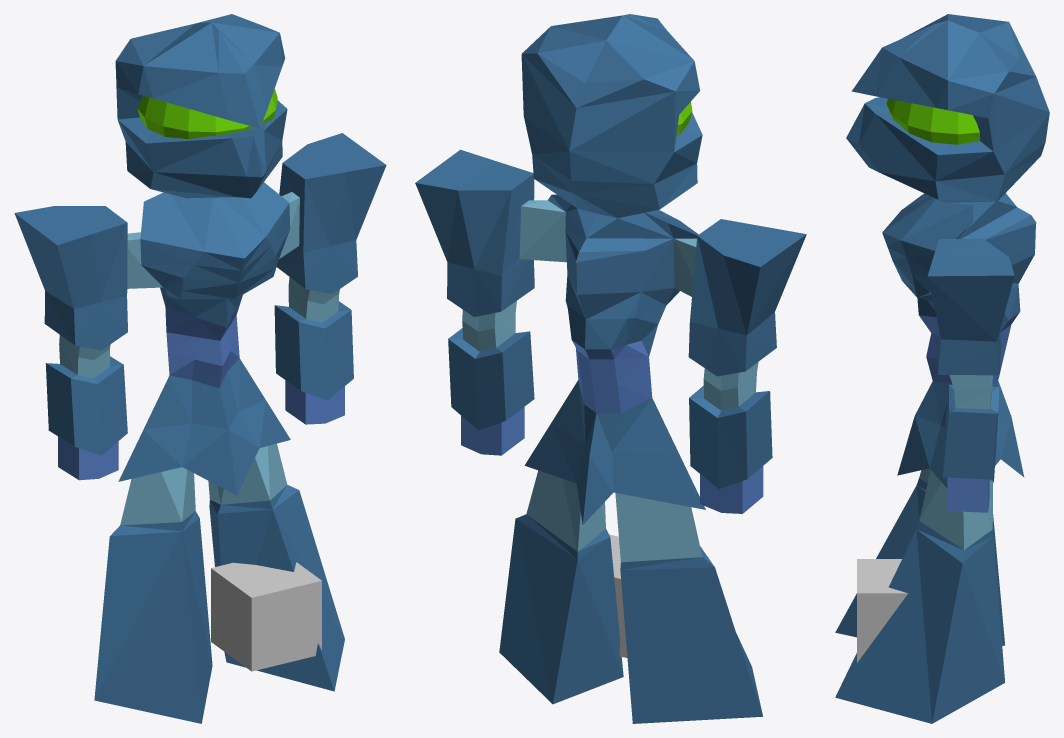
The model's file is Base Bot.dae.
The picture shows the model from 3 angles, left to right: view 1: azimuth 30°, elevation 25°; view 2: azimuth 150°, elevation 25°; view 3: azimuth 270°, elevation 25°; orthographic projection. The views are drawn at different scales.
Visible parts, largest first — view 1: Plane, Cube; view 2: Plane, Cube; view 3: Plane, Cube.
Part boxes in pixels (x1,y1,x2,y2): Plane: (14, 14, 386, 723); Cube: (211, 562, 321, 671); Plane: (415, 14, 806, 723); Cube: (609, 534, 627, 657); Plane: (835, 14, 1049, 723); Cube: (857, 559, 907, 662).
Bounding box in the file's own units: 9.35 × 5.27 × 17.47.
